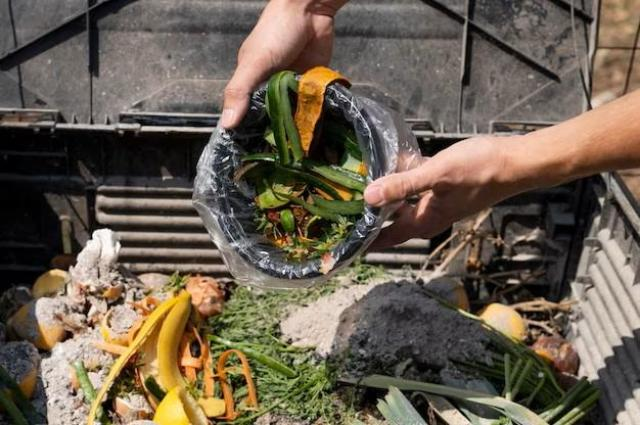Garbage: (1, 235, 625, 425)
